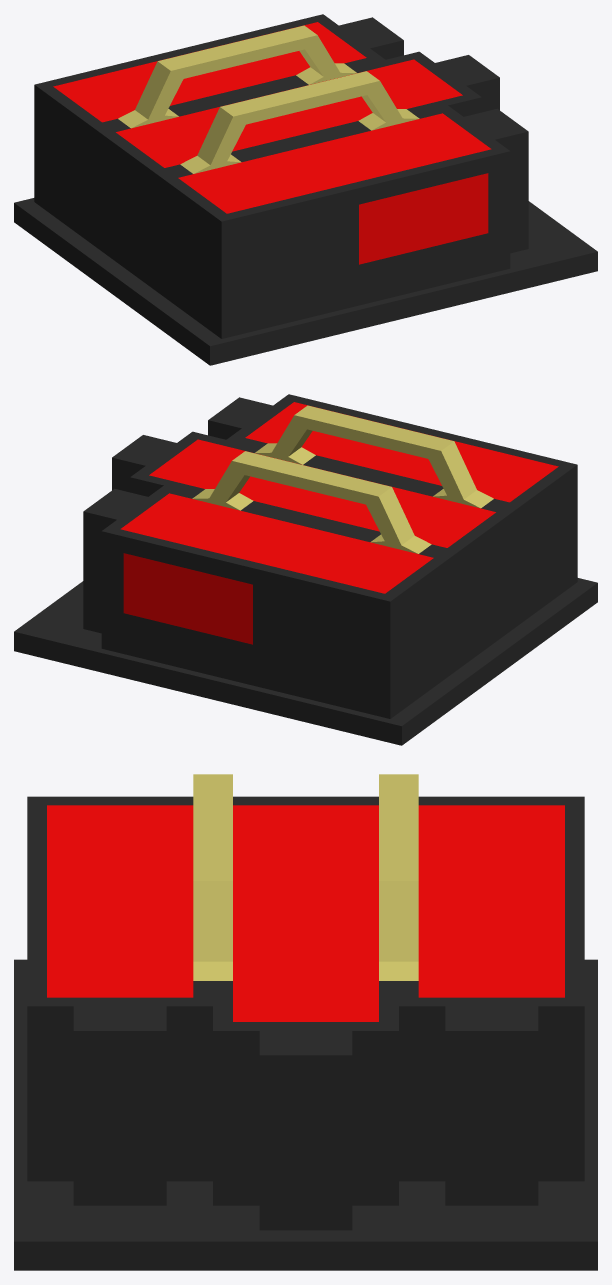
Rendered from Battery_01.fbx.
3 views of the same model, one above another, from view 1: azimuth 30°, elevation 25°; view 2: azimuth 150°, elevation 25°; view 3: azimuth 270°, elevation 25° (orthographic). The views are drawn at different scales.
Parts seen in each view (by area): view 1: Battery_01; view 2: Battery_01; view 3: Battery_01.
Boxes of the visible parts, box(x1,y1,x2,y2) form: Battery_01: box(14, 14, 597, 365); Battery_01: box(14, 394, 597, 745); Battery_01: box(14, 774, 597, 1270).
Bounding box in the file's own units: 176 × 79.97 × 154.
